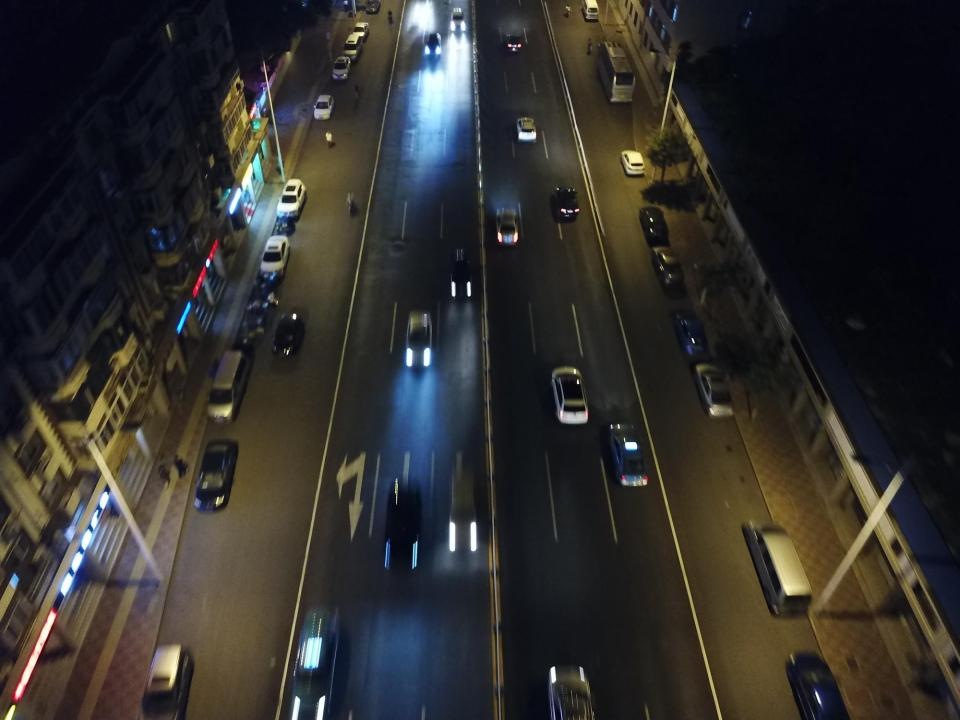bus: (596, 41, 637, 103)
car: (288, 605, 346, 718), (787, 651, 850, 720), (137, 642, 191, 720), (191, 438, 241, 512), (383, 482, 422, 566), (604, 421, 652, 487), (545, 662, 597, 720), (547, 364, 593, 427), (448, 474, 482, 553), (691, 362, 736, 420), (670, 304, 712, 358), (404, 310, 436, 368), (650, 245, 685, 287), (271, 313, 305, 355), (260, 235, 290, 280), (275, 178, 308, 218), (450, 248, 474, 299), (638, 206, 670, 240), (494, 206, 520, 247), (555, 185, 580, 219), (619, 149, 646, 176), (313, 94, 336, 121), (516, 116, 538, 144), (331, 56, 352, 81), (423, 32, 442, 55), (450, 7, 466, 30), (352, 21, 370, 41), (364, 0, 381, 15)
van: (740, 518, 815, 618), (202, 351, 252, 426), (344, 33, 362, 63), (505, 28, 523, 55), (582, 0, 600, 22)
